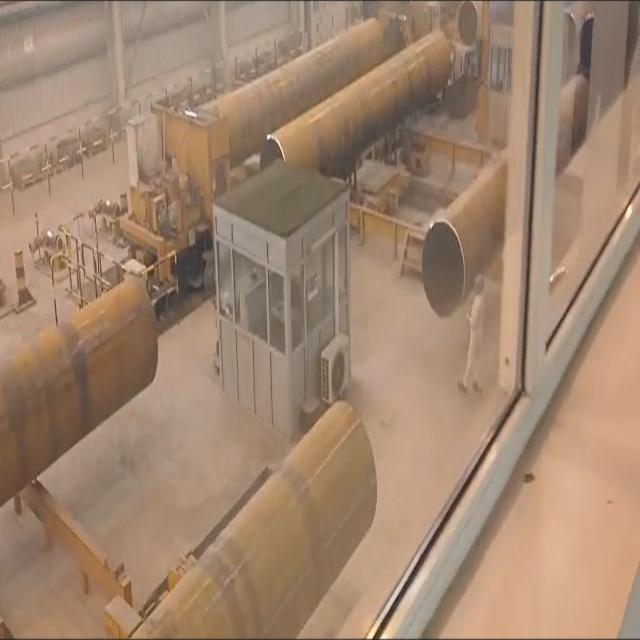warningzone: (343, 112, 500, 239)
